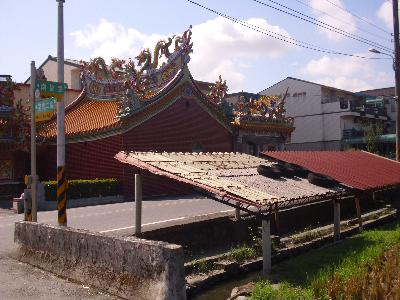tire: (306, 170, 335, 189), (257, 163, 280, 180), (272, 162, 295, 178)
